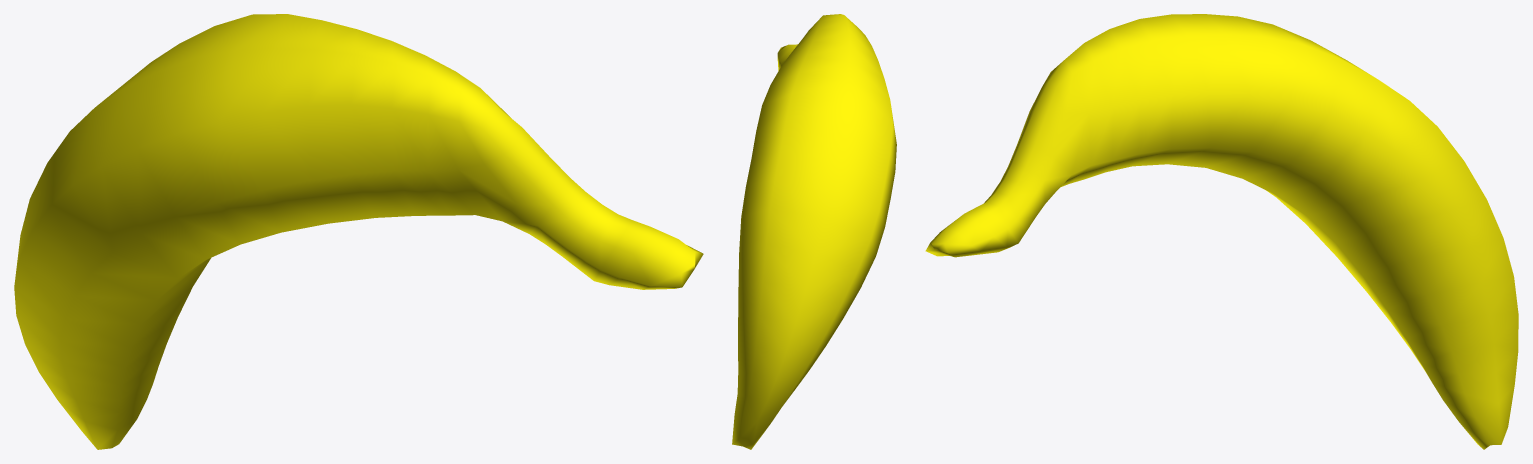
3 views of the same model, side by side, from view 1: azimuth 30°, elevation 25°; view 2: azimuth 150°, elevation 25°; view 3: azimuth 270°, elevation 25° (orthographic). The views are drawn at different scales.
Parts seen in each view (by area): view 1: Banana:pCube1; view 2: Banana:pCube1; view 3: Banana:pCube1.
Part boxes in pixels (x1,y1,x2,y2): Banana:pCube1: (14, 14, 703, 449); Banana:pCube1: (732, 14, 896, 449); Banana:pCube1: (925, 14, 1518, 449).
Bounding box in the file's own units: 0.5811 × 0.743 × 0.9011.
